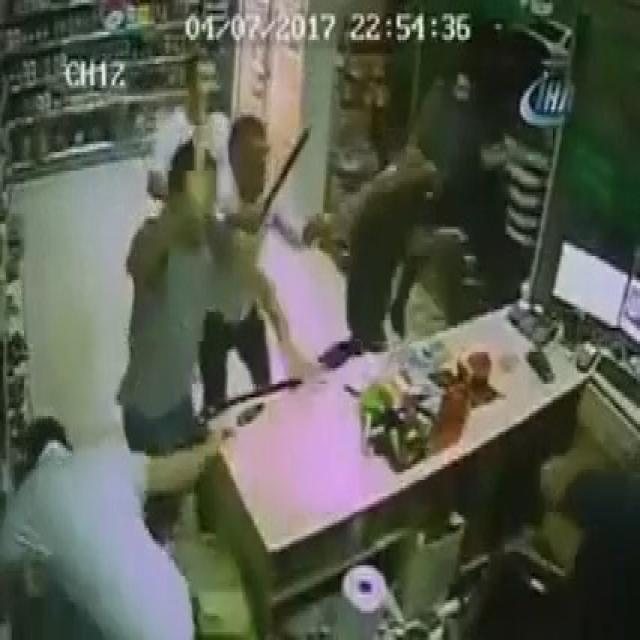fight: (122, 112, 282, 450)
